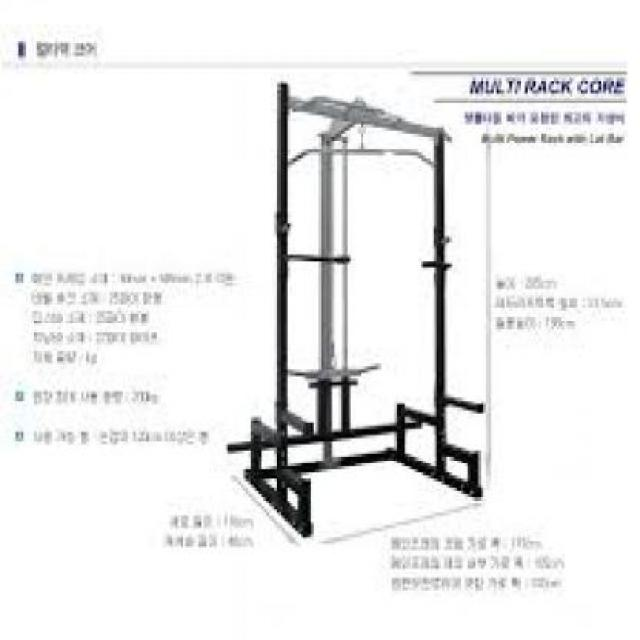smith machine: (226, 81, 465, 532)
